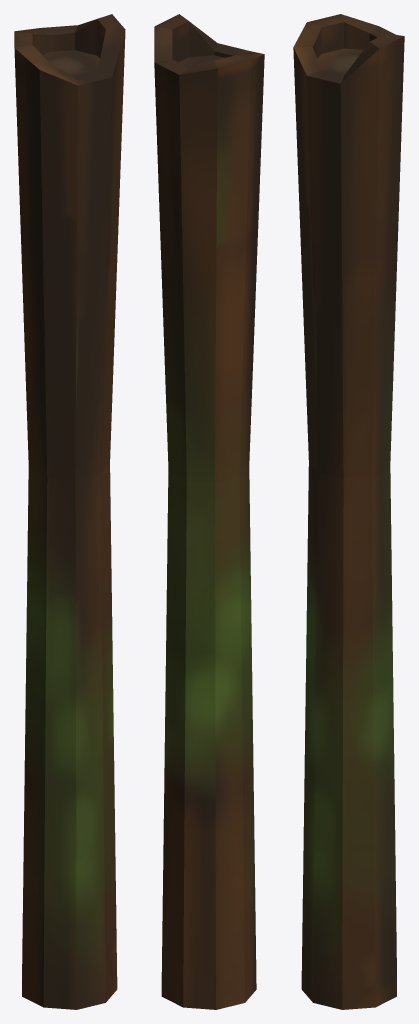
File: Wreck3.fbx
The picture shows the model from 3 angles, left to right: view 1: azimuth 30°, elevation 25°; view 2: azimuth 150°, elevation 25°; view 3: azimuth 330°, elevation 25°; orthographic projection.
Parts seen in each view (by area): view 1: Wreck3; view 2: Wreck3; view 3: Wreck3.
Part boxes in pixels (x1=…): Wreck3: x1=14, y1=14, x2=125, y2=1009; Wreck3: x1=154, y1=14, x2=264, y2=1009; Wreck3: x1=293, y1=14, x2=404, y2=1009.
Bounding box in the file's own units: 83.57 × 785 × 82.3.
